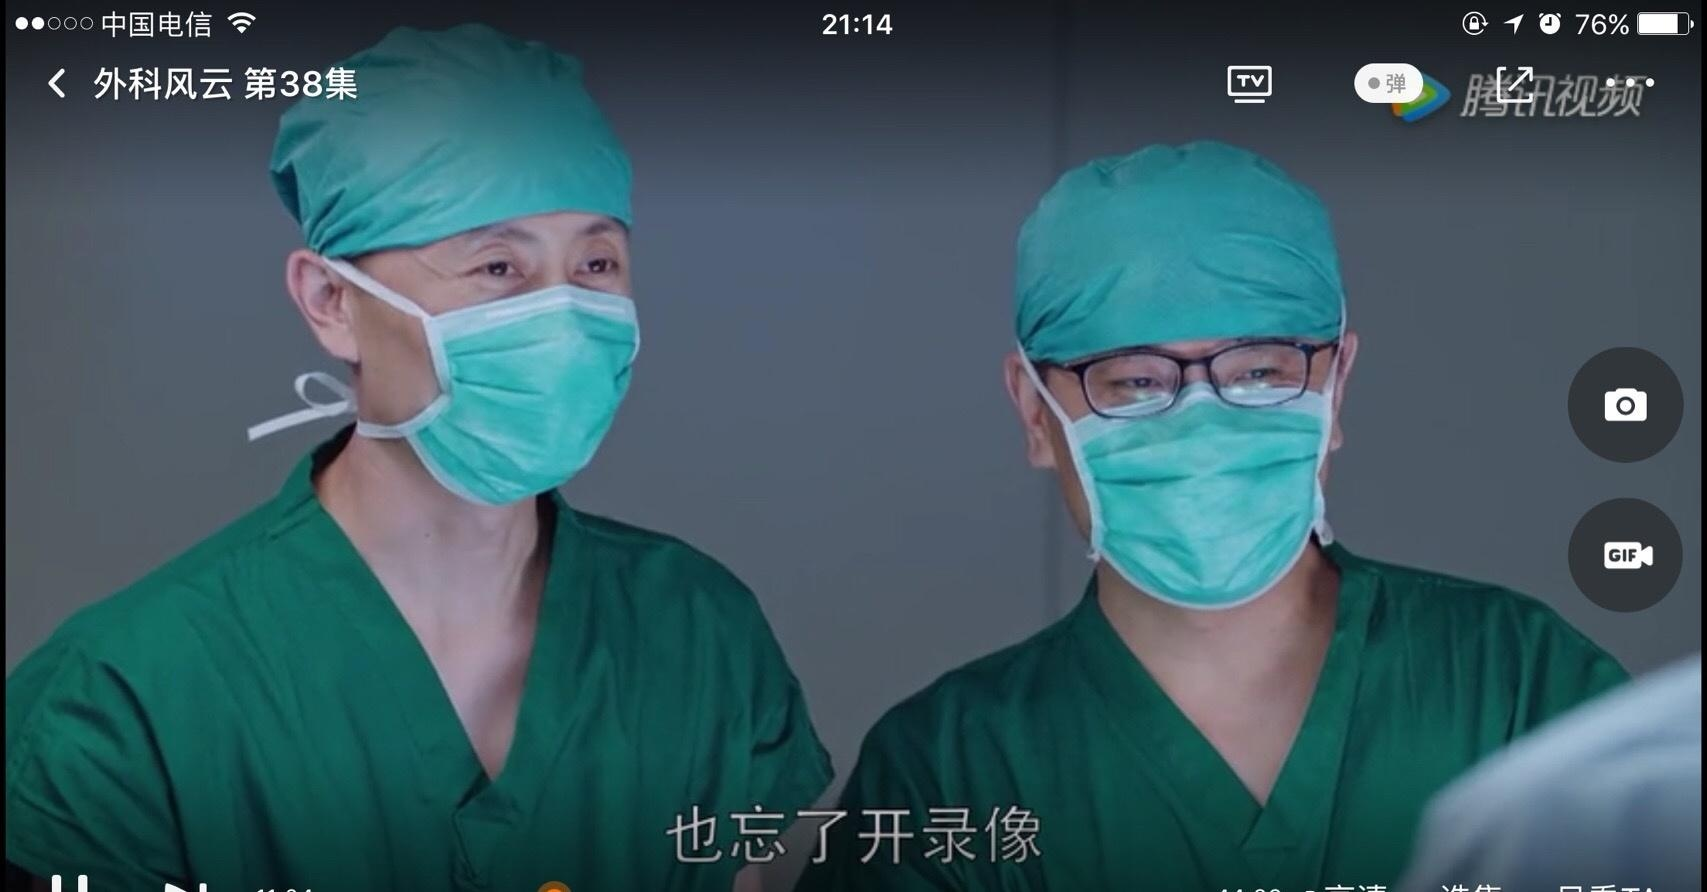Mask: (405, 211, 690, 496)
